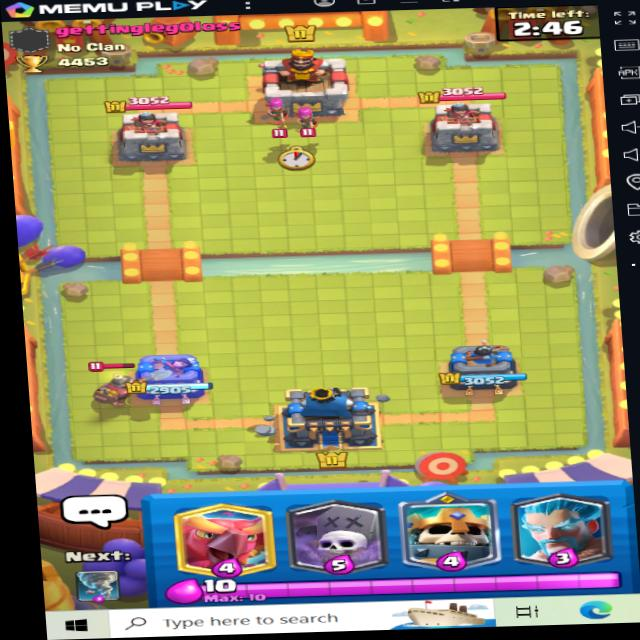archer: (257, 94, 293, 150), (291, 106, 324, 145)
miner: (82, 358, 146, 408)
